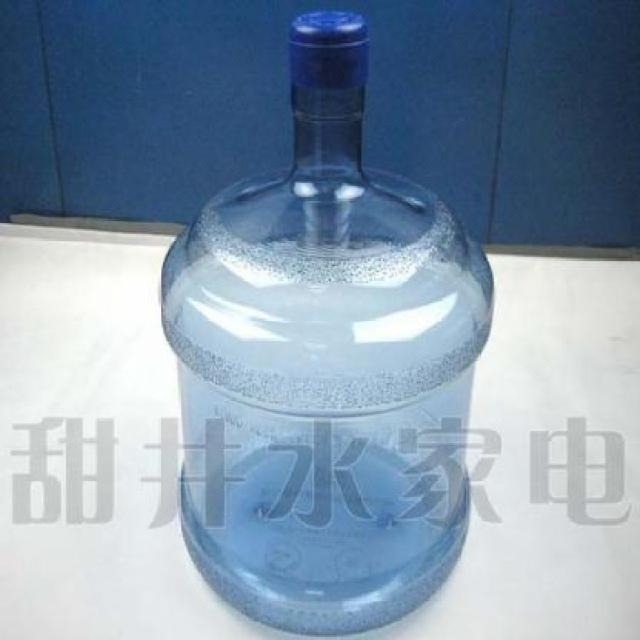coolerbottle: (152, 1, 499, 640)
